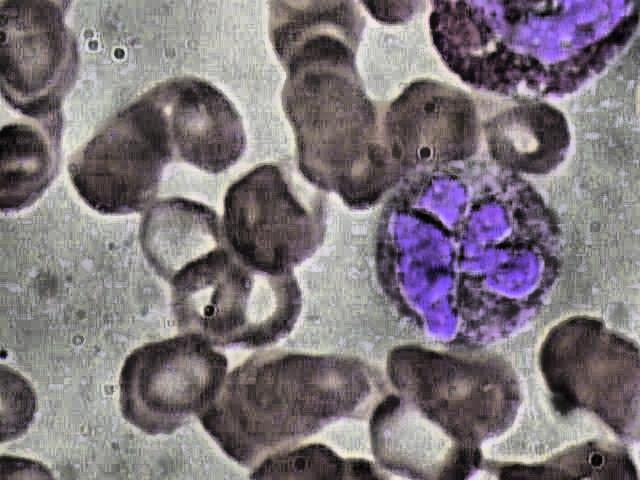RBC: (210, 156, 326, 284), (359, 383, 483, 479), (130, 194, 238, 297), (376, 77, 489, 175), (159, 81, 258, 180), (136, 337, 238, 425), (480, 101, 584, 183)
WBC: (360, 163, 571, 356), (418, 1, 640, 98)
